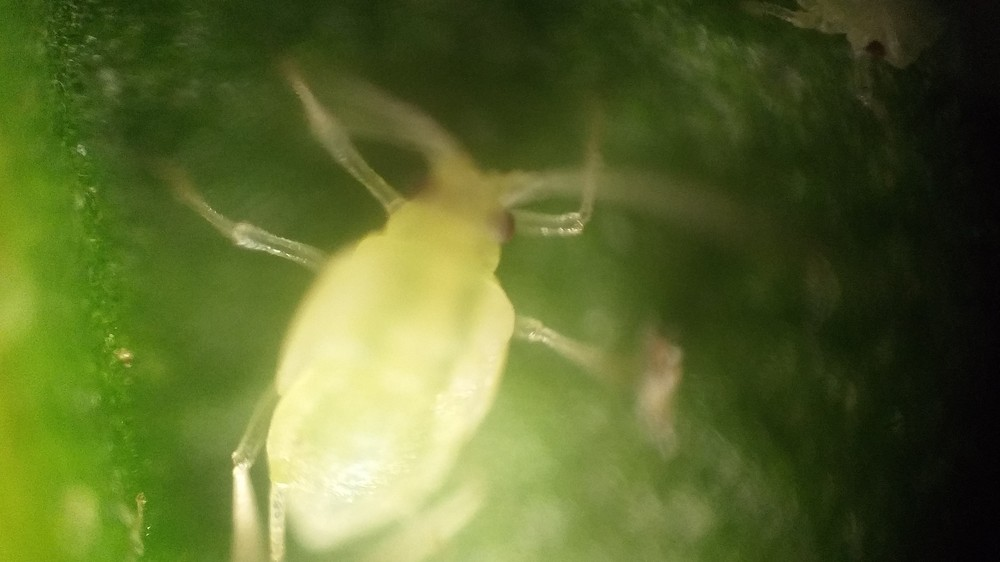Pulgon: (147, 52, 661, 556)
